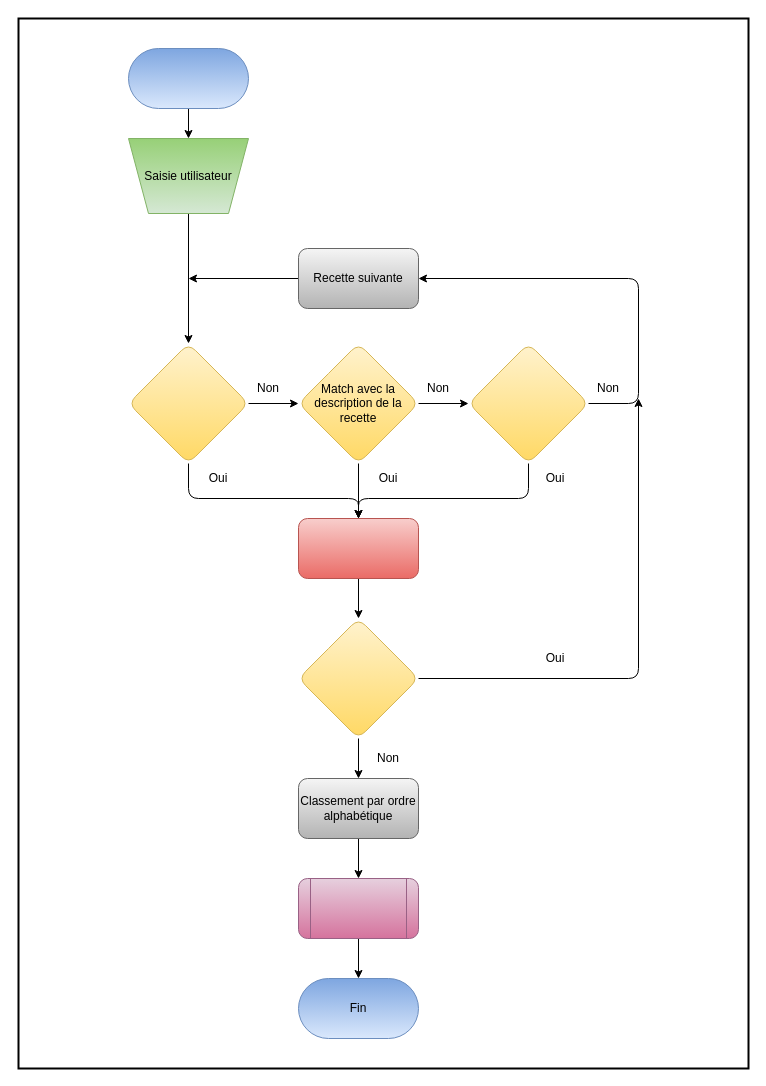
Some shapes in this 766 by 1086 pixel diagram are drawn without their labels. The shapes that lost their labels are listed below. From the top down, each one's centre as x and y in pixels, then its label:
the point at 188,78: Début
the point at 188,403: Match avec le nom de la recette
the point at 528,403: Match avec les ingrédients de la recette
the point at 358,548: Stockage de la recette
the point at 358,678: Reste des recettes à tester
the point at 358,908: Affichage des recettes dans l'application
